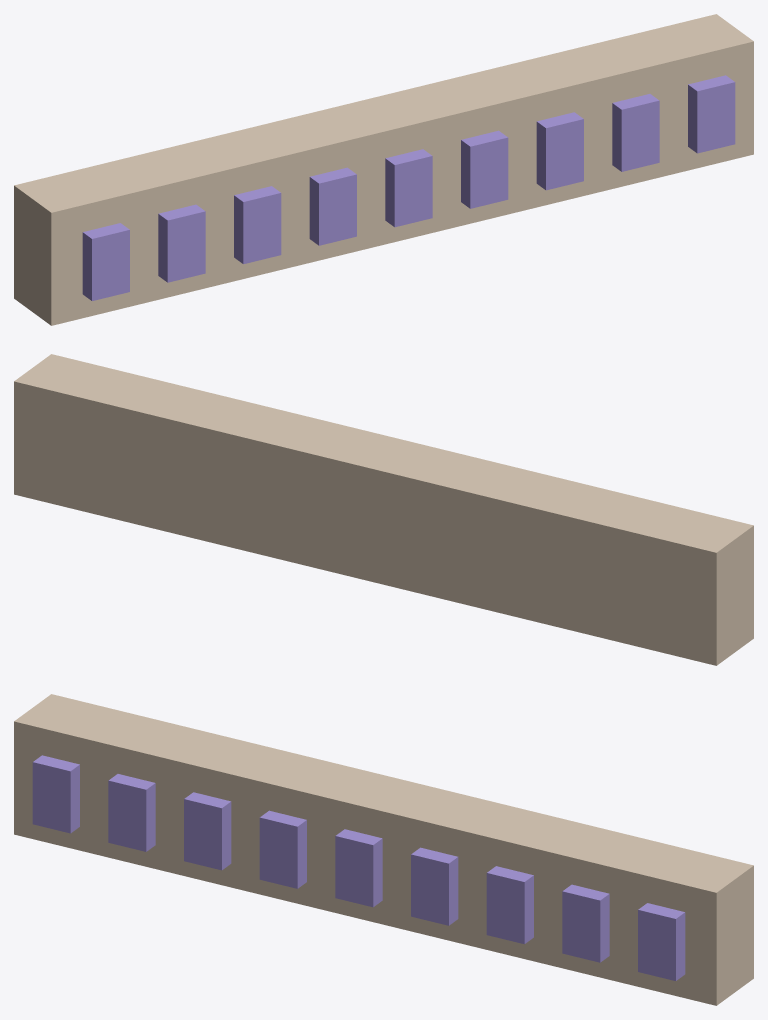
The model's file is window_inlet.gltf.
3 views of the same model, one above another, from view 1: azimuth 30°, elevation 25°; view 2: azimuth 150°, elevation 25°; view 3: azimuth 330°, elevation 25° (orthographic).
Parts seen in each view (by area): view 1: inlet, slot_1, slot_2, slot_5, slot_6, slot_8, slot_3, slot_4, slot_0, slot_7; view 2: inlet; view 3: inlet, slot_0, slot_2, slot_3, slot_6, slot_7, slot_4, slot_5, slot_1, slot_8.
Boxes of the visible parts, x1,y1,x2,y2 form: inlet: [14, 14, 753, 325]; slot_1: [158, 204, 205, 282]; slot_2: [234, 186, 281, 264]; slot_5: [461, 130, 508, 208]; slot_6: [536, 112, 583, 190]; slot_8: [688, 75, 735, 153]; slot_3: [309, 167, 356, 245]; slot_4: [385, 149, 432, 227]; slot_0: [82, 223, 129, 300]; slot_7: [612, 94, 659, 171]; inlet: [14, 354, 753, 665]; inlet: [14, 694, 753, 1005]; slot_0: [32, 755, 79, 833]; slot_2: [184, 792, 231, 870]; slot_3: [259, 810, 306, 888]; slot_6: [486, 866, 533, 944]; slot_7: [562, 884, 609, 962]; slot_4: [335, 829, 382, 907]; slot_5: [411, 847, 458, 925]; slot_1: [108, 774, 155, 851]; slot_8: [638, 903, 685, 980].
Size of the model in its own units: 0.65 by 0.1 by 0.0775.
